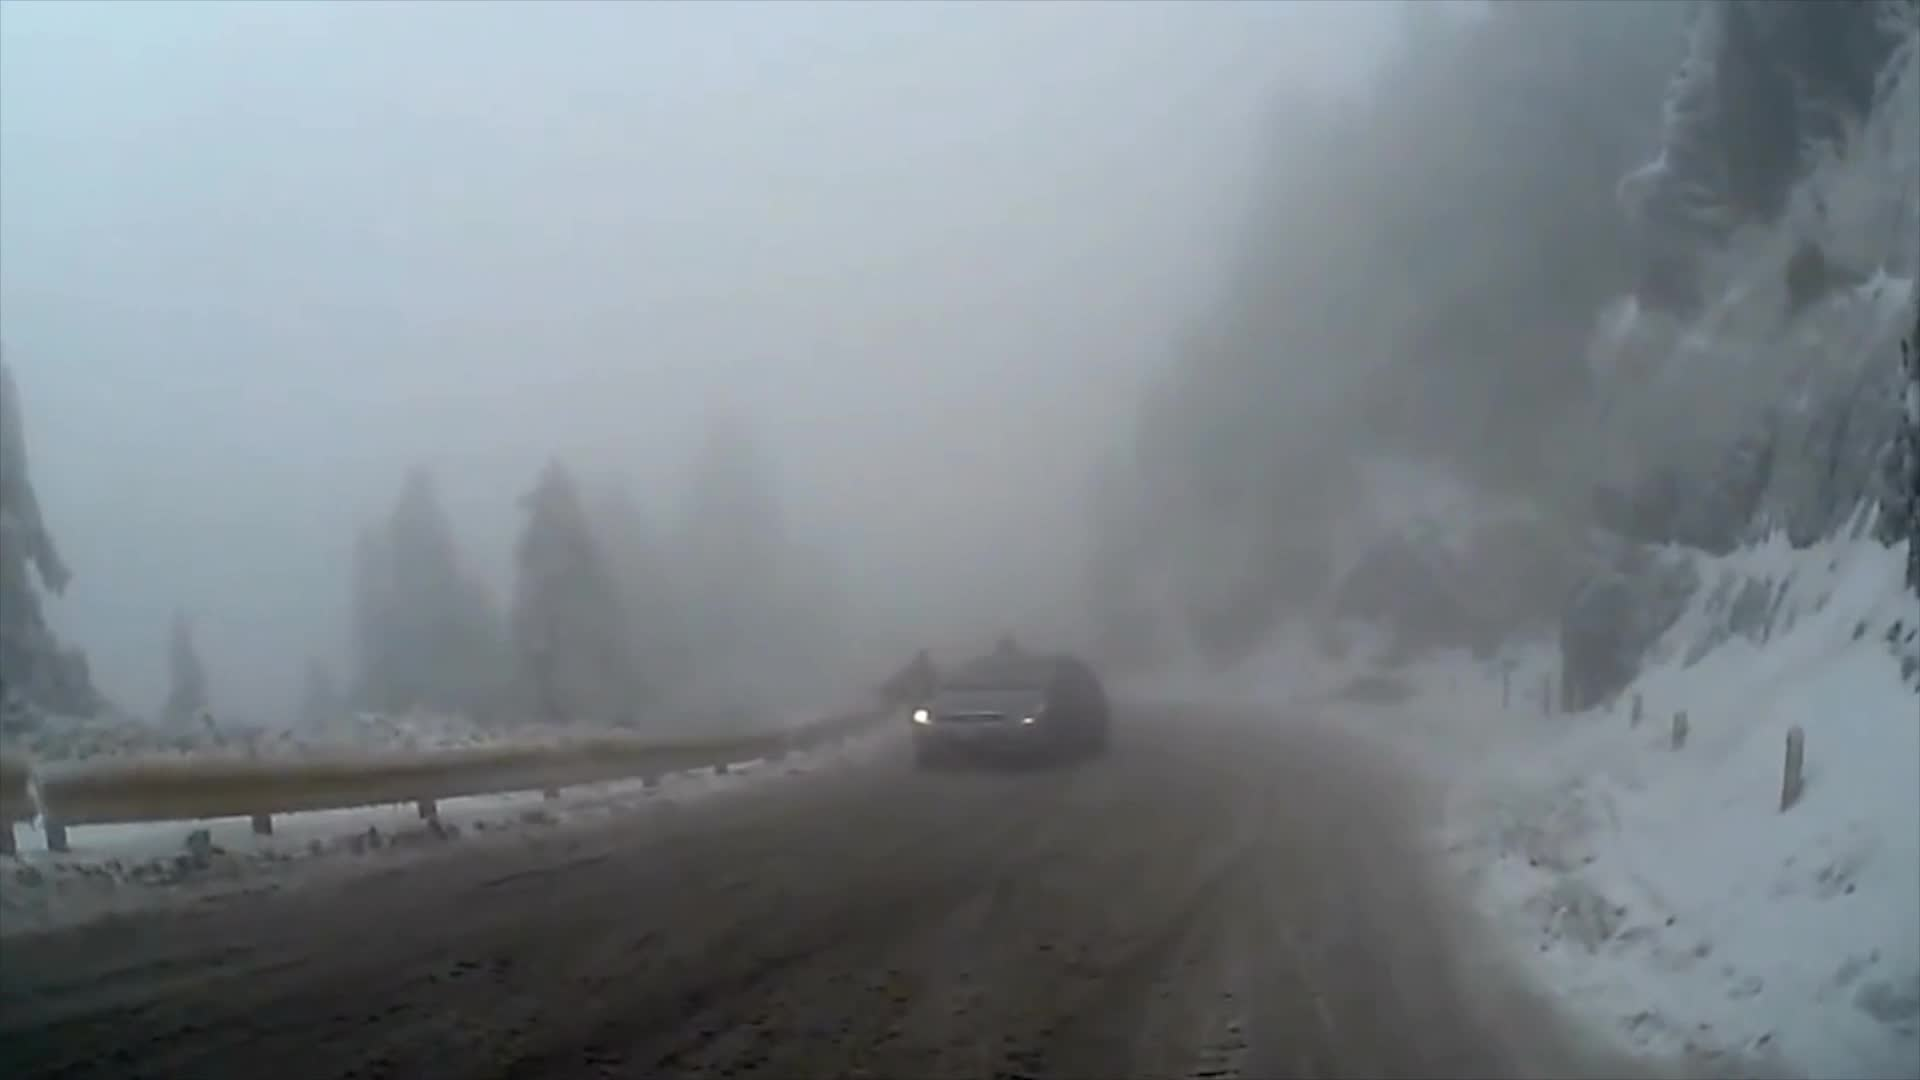vehicle: (909, 651, 1112, 774)
